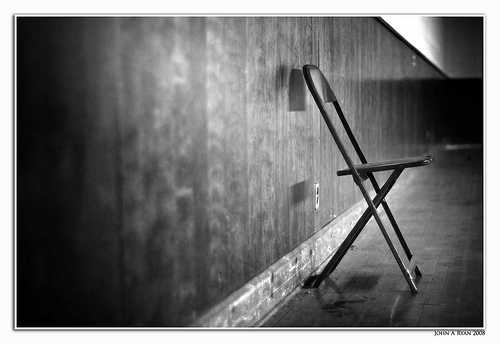obstacle: (303, 65, 431, 293)
